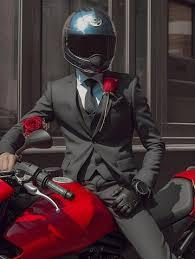Helmet: (64, 7, 116, 76)
